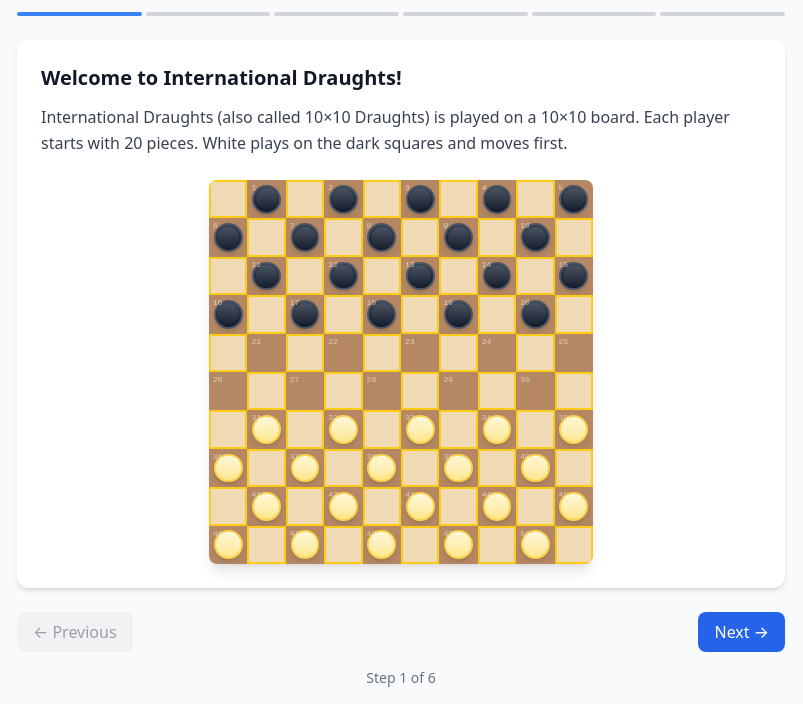
TutorialPage › navigates back to previous step
(page scrolled)
What coordinates should you click on to do the following:
click the button "Next →"
I would click on:
 (742, 632)
Its box is [698,612,785,652].
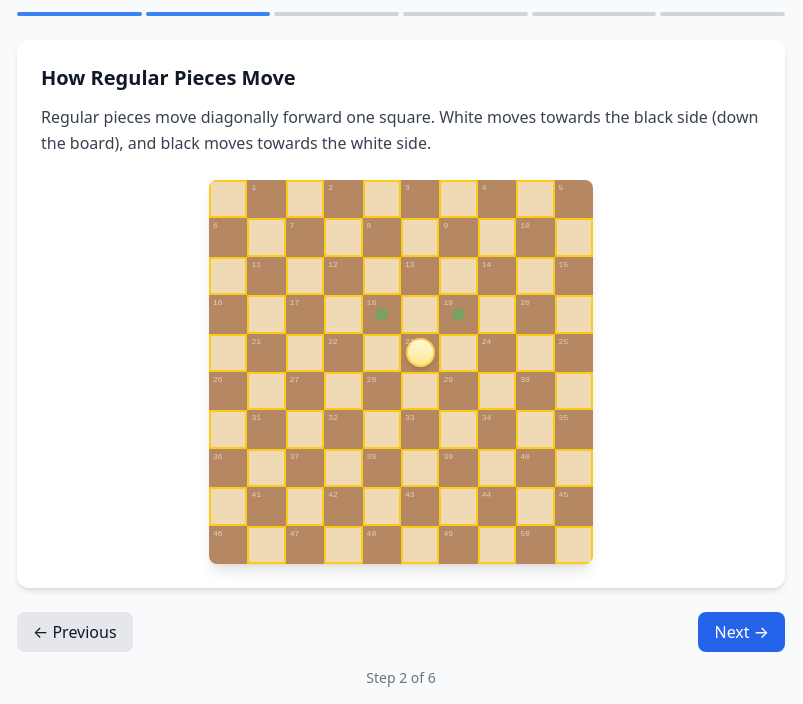
What coordinates should you click on to do the following:
click the button "← Previous"
I would click on:
 (75, 632)
Its box is [17,612,133,652].
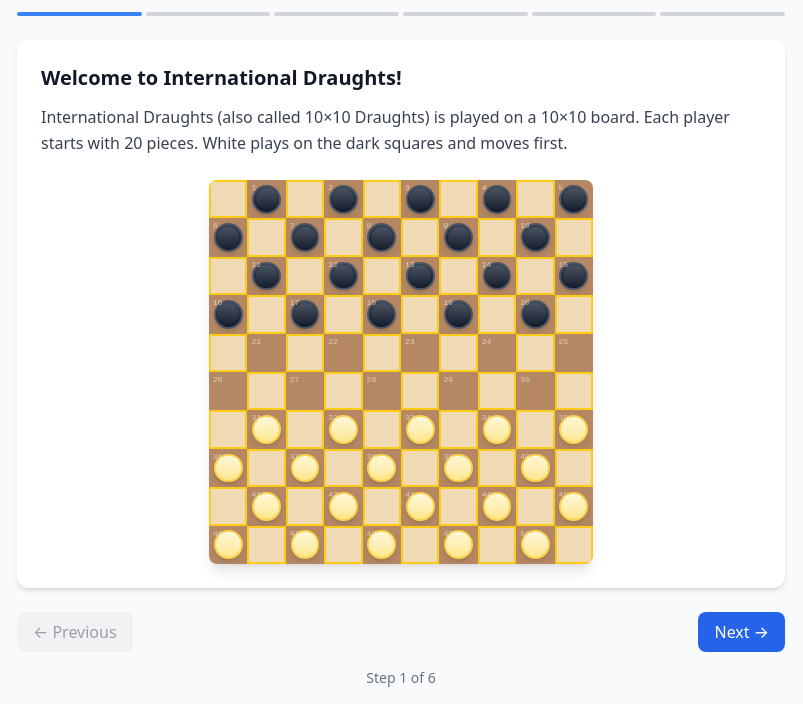
Expected: the heading "Welcome to International Draughts!" is shown, [41,64,402,91]
